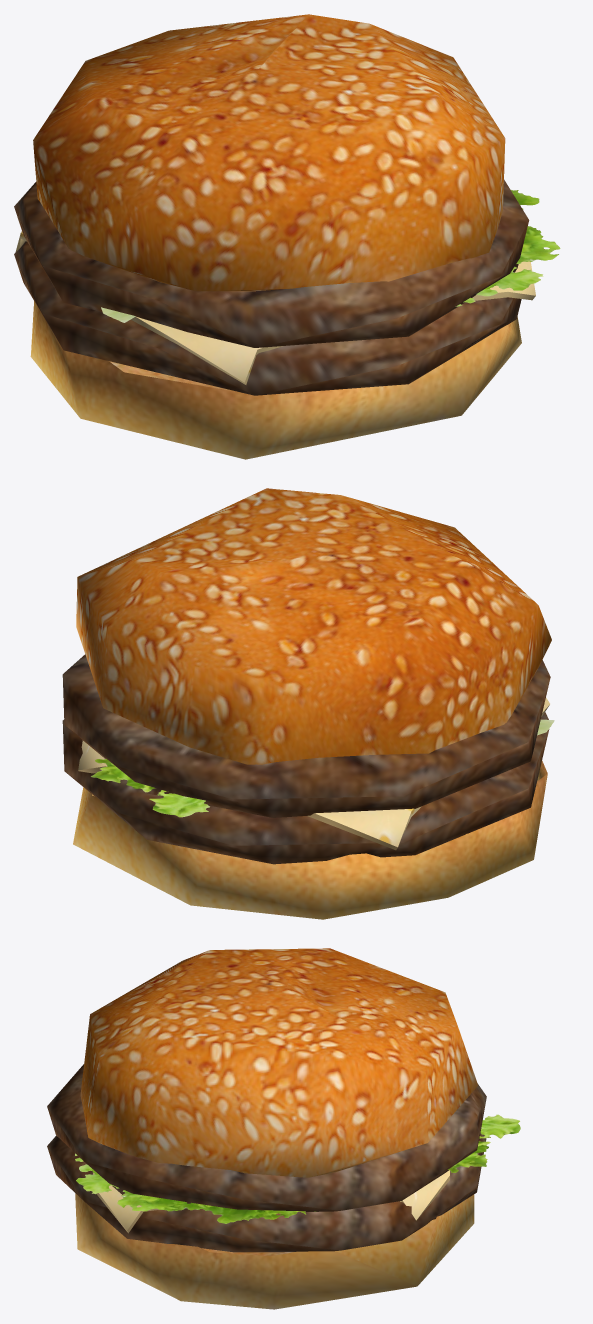
Rendered from burger_big.fbx.
The picture shows the model from 3 angles, top to bottom: view 1: azimuth 30°, elevation 25°; view 2: azimuth 150°, elevation 25°; view 3: azimuth 270°, elevation 25°; orthographic projection. The views are drawn at different scales.
Visible parts, largest first — view 1: burger_bun_01_LOD00, burger_bun_04_LOD00, chopped_steak__LOD00.001, chopped_steak__LOD00, cheese_LOD00, salad_LOD00; view 2: burger_bun_01_LOD00, chopped_steak__LOD00.001, burger_bun_04_LOD00, chopped_steak__LOD00, cheese_LOD00, salad_LOD00; view 3: burger_bun_01_LOD00, burger_bun_04_LOD00, chopped_steak__LOD00.001, chopped_steak__LOD00, salad_LOD00, cheese_LOD00.
Boxes of the visible parts, box(x1,y1,x2,y2) form: burger_bun_01_LOD00: box(33, 14, 505, 291); burger_bun_04_LOD00: box(30, 301, 521, 459); chopped_steak__LOD00.001: box(14, 179, 529, 347); chopped_steak__LOD00: box(14, 241, 521, 395); cheese_LOD00: box(15, 231, 535, 384); salad_LOD00: box(101, 190, 560, 322); burger_bun_01_LOD00: box(76, 488, 551, 764); chopped_steak__LOD00.001: box(62, 654, 550, 817); burger_bun_04_LOD00: box(73, 760, 547, 919); chopped_steak__LOD00: box(62, 712, 549, 864); cheese_LOD00: box(78, 697, 549, 850); salad_LOD00: box(91, 719, 554, 817); burger_bun_01_LOD00: box(80, 948, 478, 1177); burger_bun_04_LOD00: box(75, 1193, 474, 1309); chopped_steak__LOD00.001: box(47, 1064, 486, 1211); chopped_steak__LOD00: box(47, 1133, 486, 1252); salad_LOD00: box(75, 1114, 520, 1223); cheese_LOD00: box(93, 1170, 449, 1233).
Bounding box in the file's own units: 15.98 × 8.62 × 18.89.
